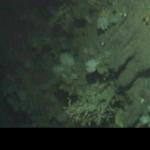dead: (2, 1, 148, 126)
